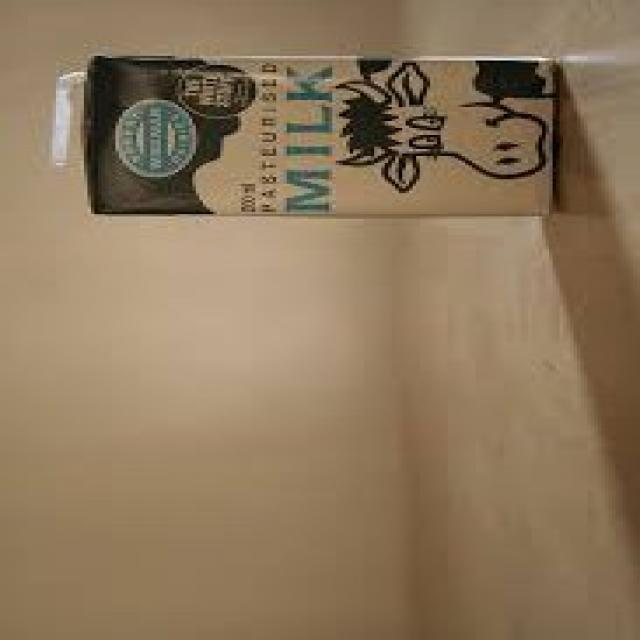non_white_jug: (76, 52, 563, 221)
